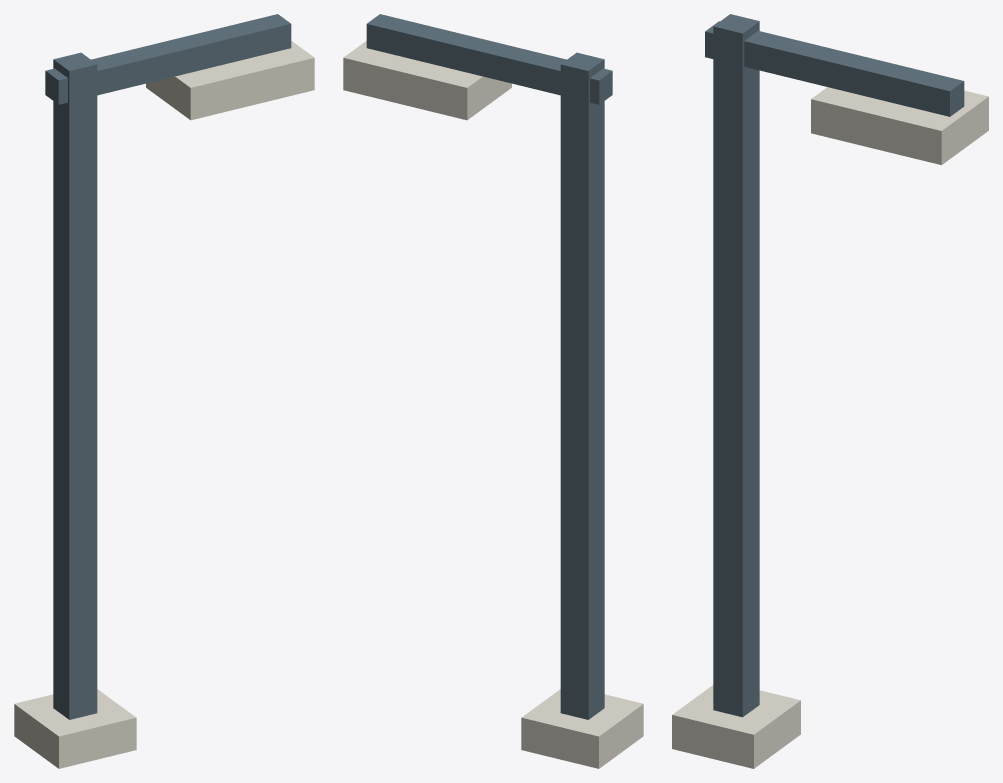
File: voxel-city-districts-street-lamp-51de74bb__24834.glb
3 renders of one model, left to right at view 1: azimuth 30°, elevation 25°; view 2: azimuth 150°, elevation 25°; view 3: azimuth 330°, elevation 25°, orthographic. The views are drawn at different scales.
Parts seen in each view (by area): view 1: street-lamp-dark, street-lamp-concrete; view 2: street-lamp-dark, street-lamp-concrete; view 3: street-lamp-dark, street-lamp-concrete.
Boxes of the visible parts, <box> form: street-lamp-dark: <box>45,14,291,719</box>; street-lamp-concrete: <box>14,41,314,768</box>; street-lamp-dark: <box>366,14,612,719</box>; street-lamp-concrete: <box>343,41,643,768</box>; street-lamp-dark: <box>705,14,964,717</box>; street-lamp-concrete: <box>672,87,988,768</box>.
Bounding box in the file's own units: 1.65 × 4.2 × 0.5.
